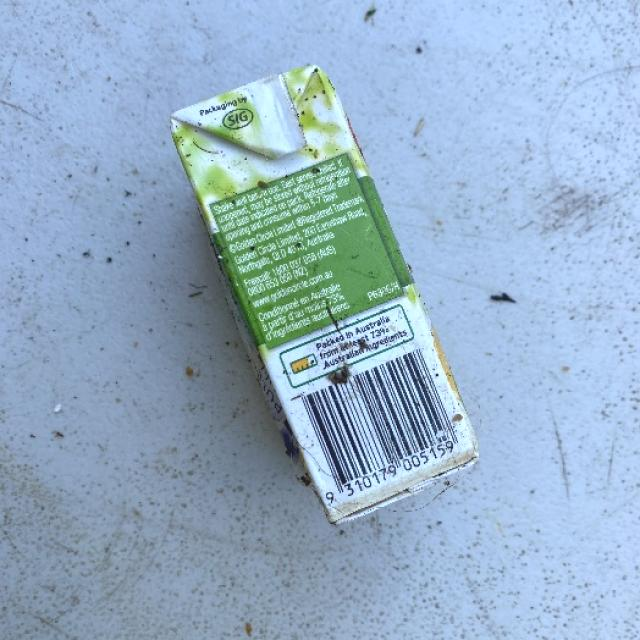styrofoam: (172, 61, 483, 522)
